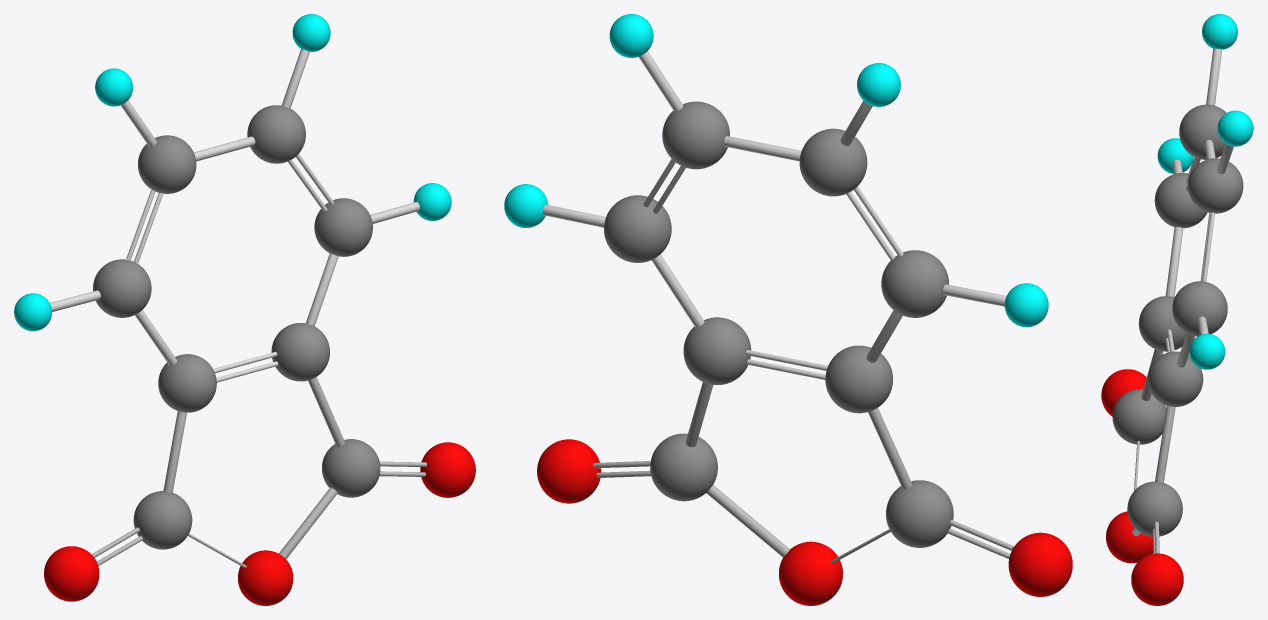
Rendered from phthalic acid.glb.
3 views of the same model, side by side, from view 1: azimuth 30°, elevation 25°; view 2: azimuth 150°, elevation 25°; view 3: azimuth 270°, elevation 25° (orthographic). The views are drawn at different scales.
Parts seen in each view (by area): view 1: CMAtom_11, CMAtom_4, CMAtom_2, CMAtom_3, CMAtom_1, CMAtom_0, CMAtom_10, CMAtom_5, CMAtom_13, CMAtom_14, CMAtom_12, CMAtom_9 (+10 smaller); view 2: CMAtom_2, CMAtom_11, CMAtom_5, CMAtom_0, CMAtom_4, CMAtom_3, CMAtom_10, CMAtom_1, CMAtom_13, CMAtom_14, CMAtom_12, CMAtom_9 (+9 smaller); view 3: CMAtom_10, CMAtom_0, CMAtom_4, CMAtom_2, CMAtom_11, CMAtom_12, CMAtom_5, CMAtom_3, CMAtom_1, CMAtom_14, CMAtom_13, CMAtom_6 (+10 smaller).
Part boxes in pixels (x1=…): CMAtom_11: x1=133, y1=491, x2=192, y2=549; CMAtom_4: x1=314, y1=198, x2=372, y2=256; CMAtom_2: x1=271, y1=323, x2=329, y2=381; CMAtom_3: x1=138, y1=135, x2=196, y2=193; CMAtom_1: x1=158, y1=354, x2=216, y2=412; CMAtom_0: x1=247, y1=105, x2=305, y2=163; CMAtom_10: x1=322, y1=439, x2=380, y2=497; CMAtom_5: x1=93, y1=259, x2=151, y2=317; CMAtom_13: x1=44, y1=546, x2=99, y2=601; CMAtom_14: x1=238, y1=550, x2=293, y2=605; CMAtom_12: x1=420, y1=442, x2=475, y2=497; CMAtom_9: x1=14, y1=293, x2=52, y2=331; CMAtom_2: x1=683, y1=317, x2=751, y2=384; CMAtom_11: x1=886, y1=480, x2=953, y2=547; CMAtom_5: x1=881, y1=250, x2=948, y2=317; CMAtom_0: x1=662, y1=101, x2=729, y2=169; CMAtom_4: x1=604, y1=195, x2=671, y2=262; CMAtom_3: x1=799, y1=128, x2=867, y2=196; CMAtom_10: x1=650, y1=433, x2=717, y2=501; CMAtom_1: x1=825, y1=345, x2=892, y2=413; CMAtom_13: x1=1008, y1=532, x2=1072, y2=596; CMAtom_14: x1=779, y1=541, x2=842, y2=605; CMAtom_12: x1=537, y1=439, x2=601, y2=503; CMAtom_9: x1=1004, y1=283, x2=1048, y2=327; CMAtom_10: x1=1127, y1=481, x2=1182, y2=536; CMAtom_0: x1=1188, y1=158, x2=1243, y2=213; CMAtom_4: x1=1172, y1=281, x2=1227, y2=336; CMAtom_2: x1=1147, y1=351, x2=1203, y2=406; CMAtom_11: x1=1112, y1=389, x2=1166, y2=444; CMAtom_12: x1=1131, y1=553, x2=1183, y2=605; CMAtom_5: x1=1154, y1=173, x2=1207, y2=228; CMAtom_3: x1=1179, y1=104, x2=1226, y2=159; CMAtom_1: x1=1138, y1=296, x2=1186, y2=351; CMAtom_14: x1=1106, y1=511, x2=1153, y2=563; CMAtom_13: x1=1101, y1=369, x2=1146, y2=416; CMAtom_6: x1=1217, y1=110, x2=1253, y2=146.
Bounding box in the file's own units: 5.45 × 6.08 × 1.69.
